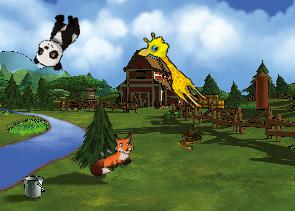fox: (81, 128, 142, 179)
giraffe: (132, 28, 217, 113)
panda: (30, 7, 85, 74)
